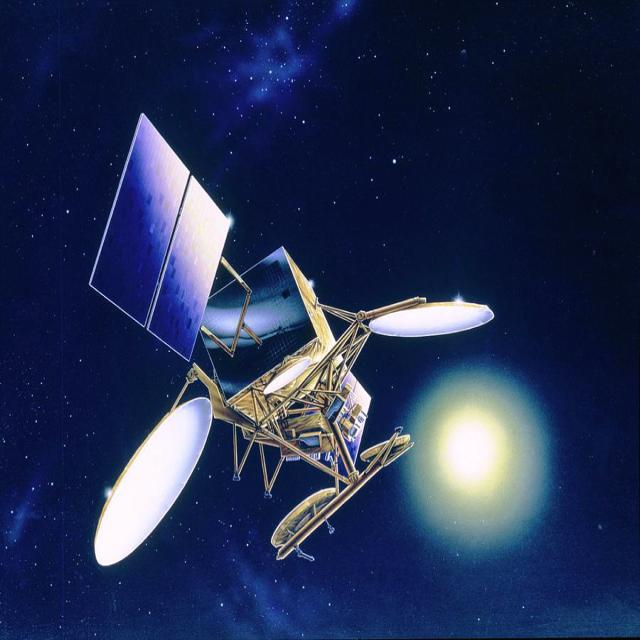medium_debris: (70, 101, 503, 578)
